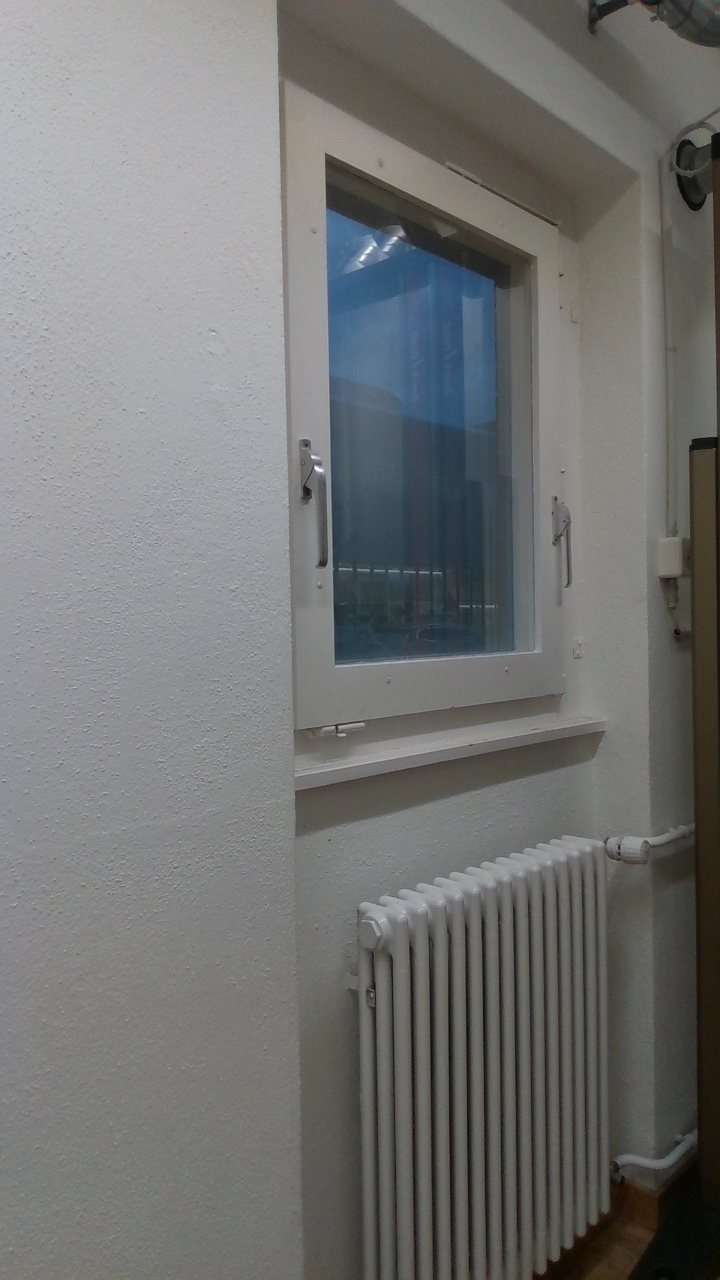Knob_Radiator: (589, 827, 660, 875)
Radiator: (338, 812, 618, 1280)
